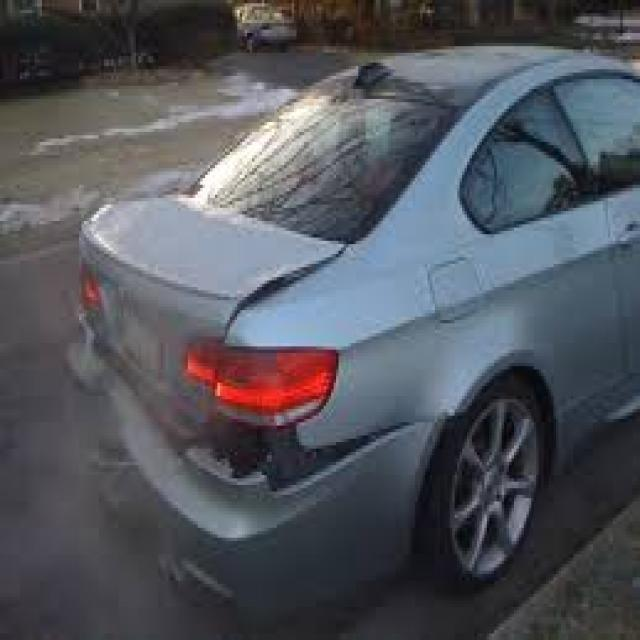damaged-trunk: (90, 193, 331, 391)
